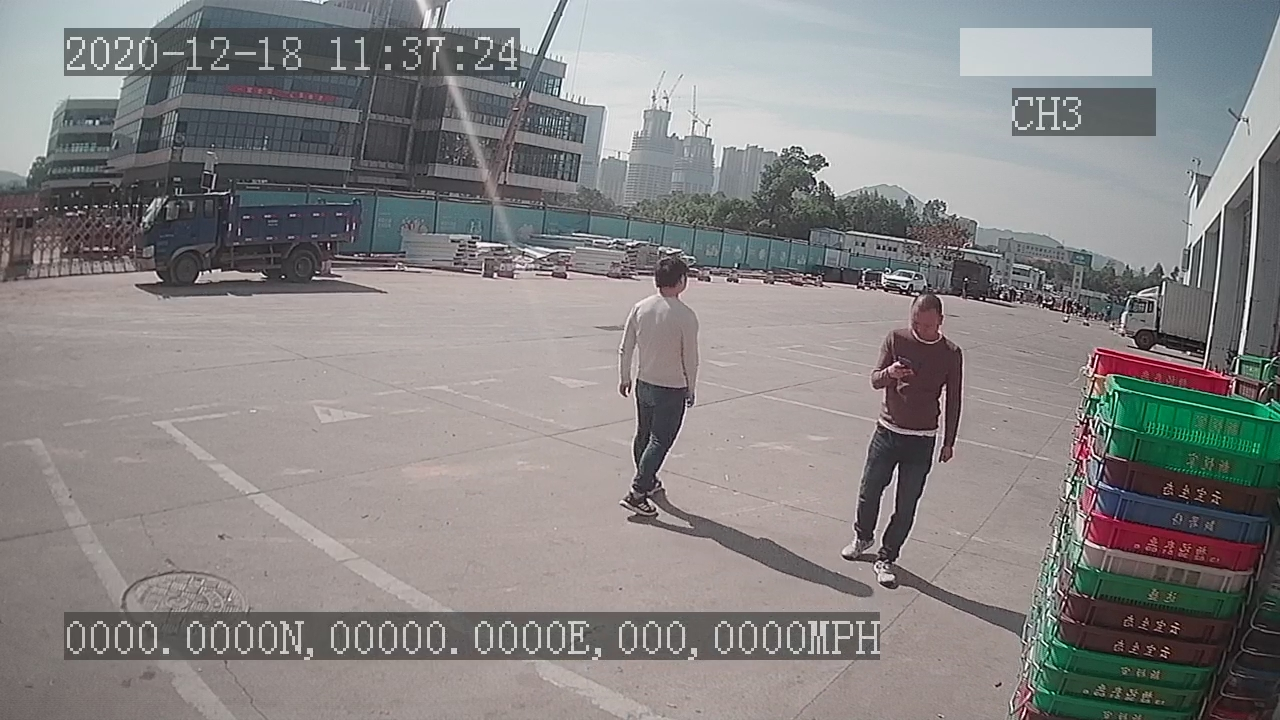person: (840, 292, 963, 584), (612, 255, 707, 523)
